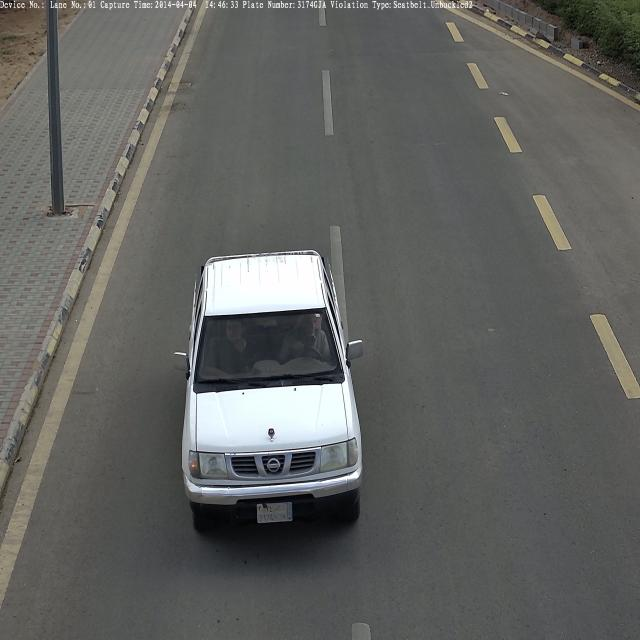person_with_seatbelt: (283, 318, 327, 361)
